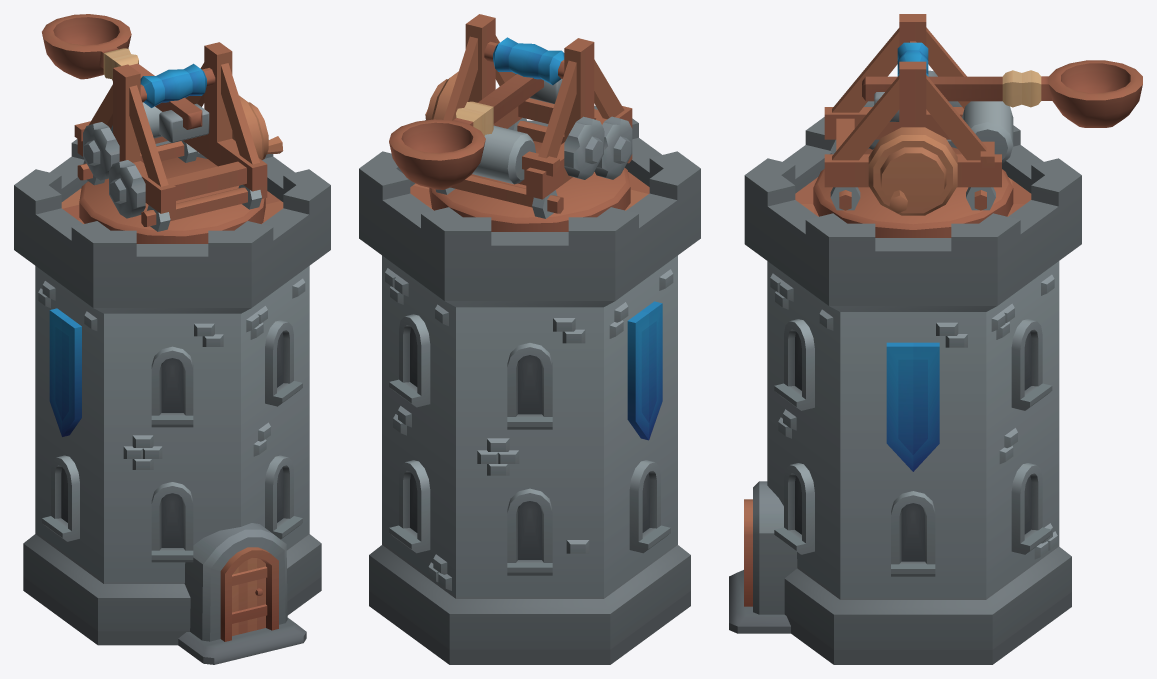
File: building_tower_catapult_blue.gltf
The picture shows the model from 3 angles, left to right: view 1: azimuth 30°, elevation 25°; view 2: azimuth 150°, elevation 25°; view 3: azimuth 270°, elevation 25°; orthographic projection. The views are drawn at different scales.
Parts seen in each view (by area): view 1: building_tower_catapult_blue, catapult_turret_blue, catapult_arm_blue; view 2: building_tower_catapult_blue, catapult_turret_blue, catapult_arm_blue; view 3: building_tower_catapult_blue, catapult_turret_blue, catapult_arm_blue.
Part boxes in pixels (x1,y1,x2,y2): building_tower_catapult_blue: [14, 139, 330, 664]; catapult_turret_blue: [74, 42, 283, 243]; catapult_arm_blue: [42, 14, 209, 142]; building_tower_catapult_blue: [359, 106, 700, 664]; catapult_turret_blue: [425, 14, 632, 231]; catapult_arm_blue: [389, 74, 562, 189]; building_tower_catapult_blue: [729, 117, 1081, 664]; catapult_turret_blue: [813, 14, 1013, 237]; catapult_arm_blue: [862, 60, 1142, 127].
Bounding box in the file's own units: 0.9298 × 1.96 × 1.3.
Materials: 1 (1 with a texture image).
